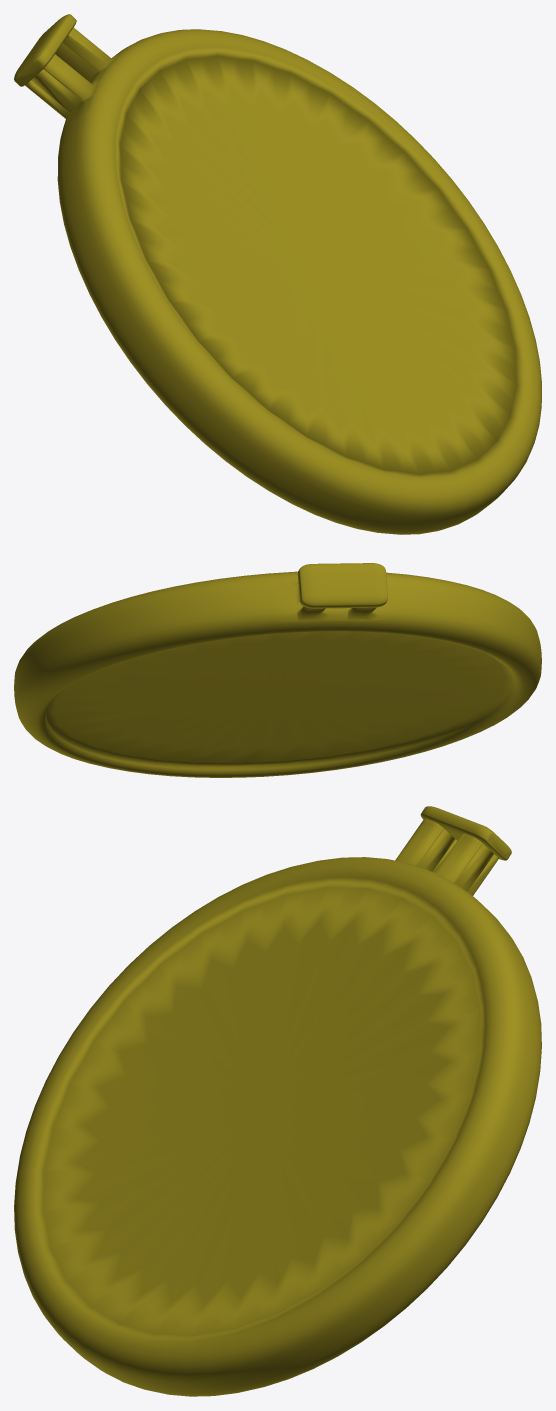
The model's file is medal.fbx.
The picture shows the model from 3 angles, top to bottom: view 1: azimuth 30°, elevation 25°; view 2: azimuth 150°, elevation 25°; view 3: azimuth 270°, elevation 25°; orthographic projection. The views are drawn at different scales.
Parts seen in each view (by area): view 1: Cube; view 2: Cube; view 3: Cube.
Part boxes in pixels (<box>): Cube: <box>14,14,541,534</box>; Cube: <box>14,563,541,777</box>; Cube: <box>14,806,541,1396</box>.
Bounding box in the file's own units: 186 × 157 × 173.
